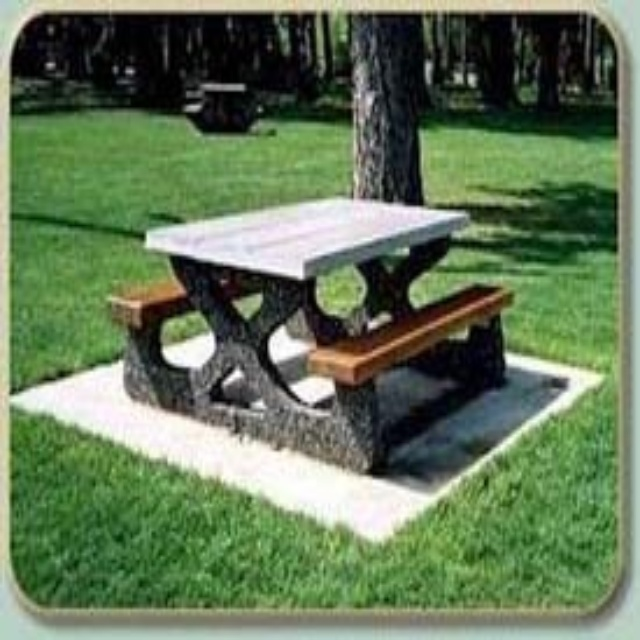obstacle: (107, 182, 517, 479)
